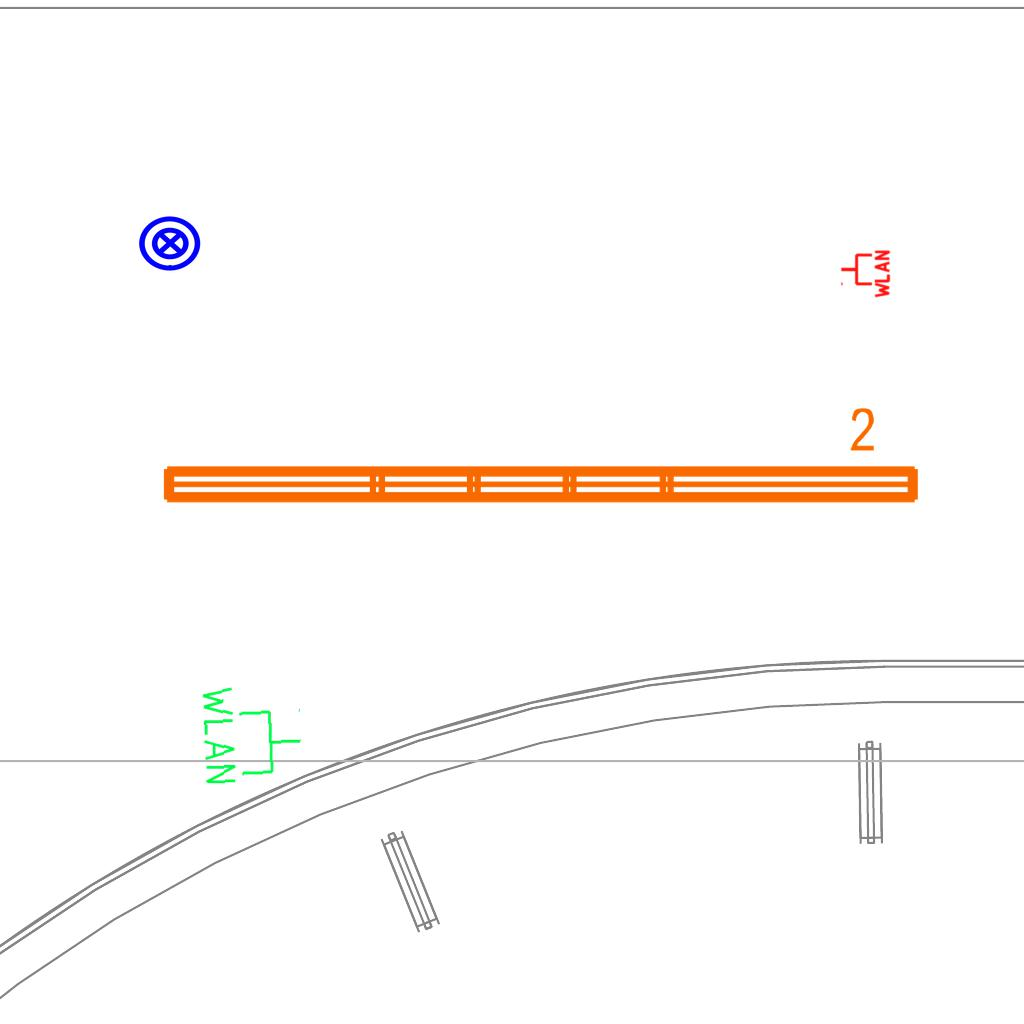Ambulanz_Pendelleuchte_LED: (153, 403, 927, 515)
Taster_beleuchtet: (137, 210, 203, 276)
WLAN: (197, 678, 307, 789), (839, 248, 891, 300)
